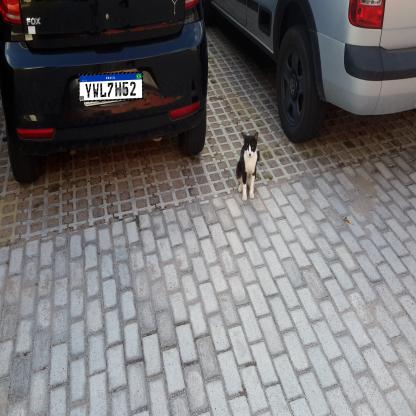PlacaM: (78, 72, 144, 102)
